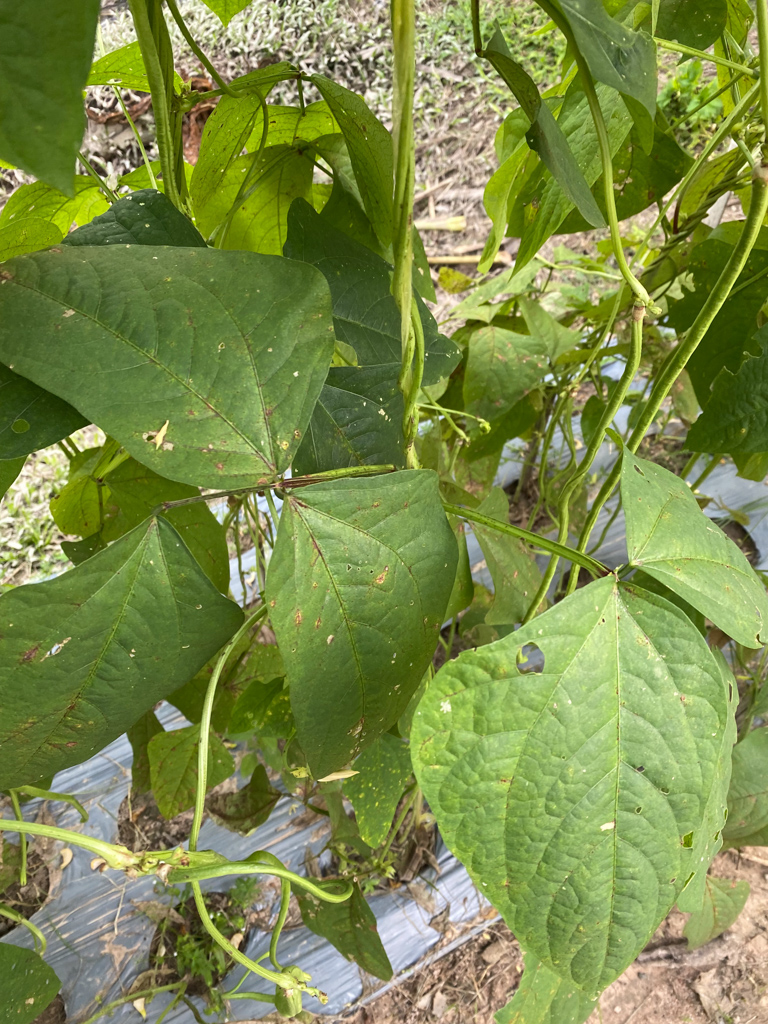Rust: (285, 513, 428, 768), (4, 583, 205, 761), (115, 305, 305, 482)
